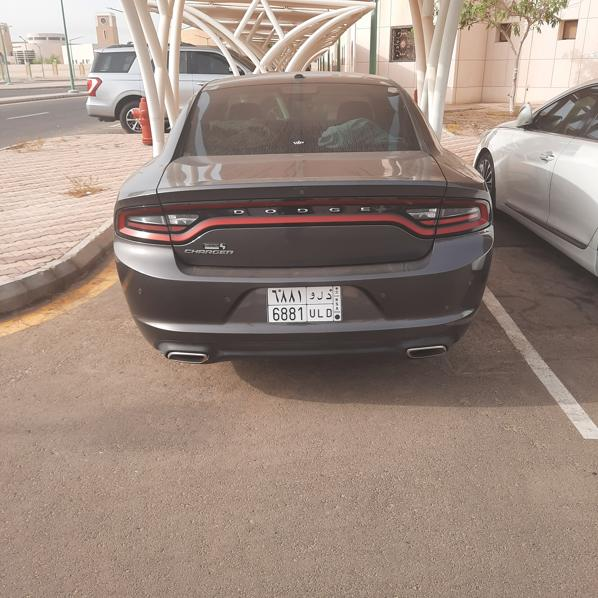numberplate: (267, 288, 341, 321)
